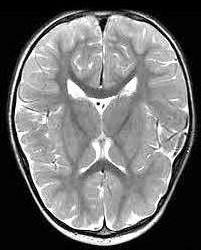Normal_Brain: (1, 1, 198, 250)
